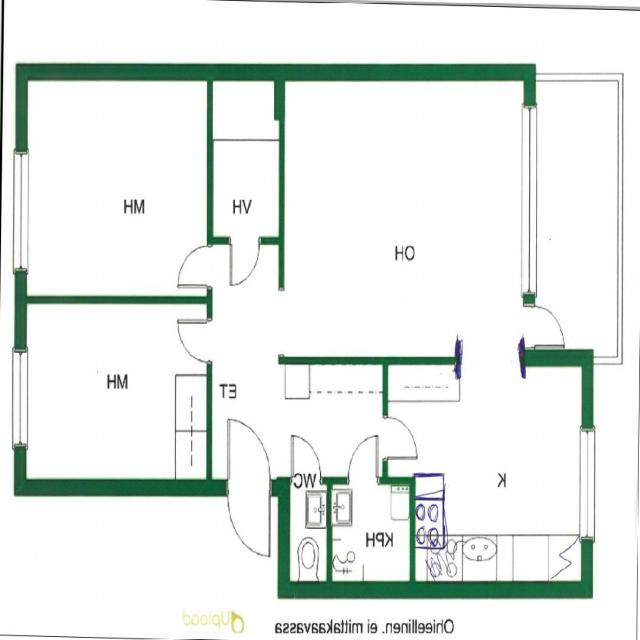door: (228, 417, 270, 493), (228, 477, 270, 553), (524, 306, 565, 348), (382, 416, 418, 459), (290, 435, 320, 484), (178, 246, 212, 288), (349, 436, 378, 484), (230, 237, 259, 284), (178, 321, 212, 361)
